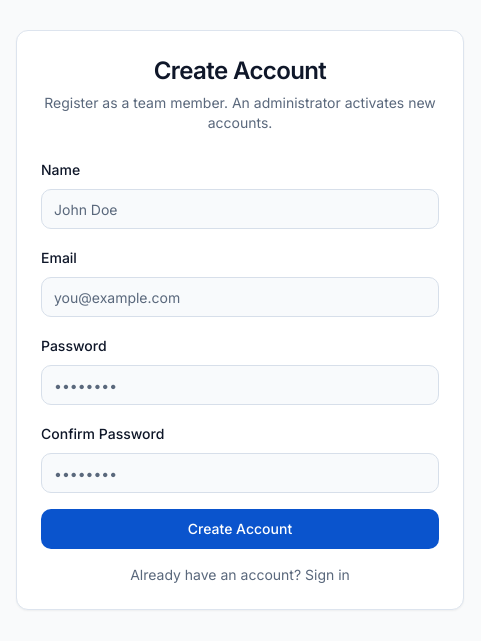
it: authentication pages › prevents registration when passwords differ
This screenshot has width=481, height=641.
Type "Asha Perera" into the field labelled "Name" at (240, 209), box [41, 189, 439, 229]
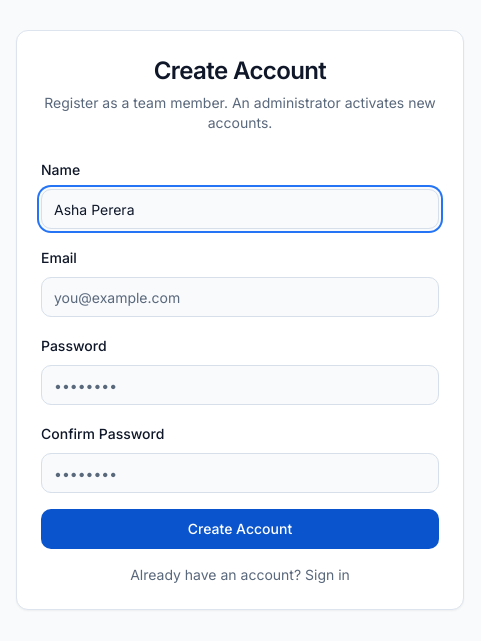
Type "asha@example.com" into the field labelled "Email" at (240, 297), box [41, 277, 439, 317]
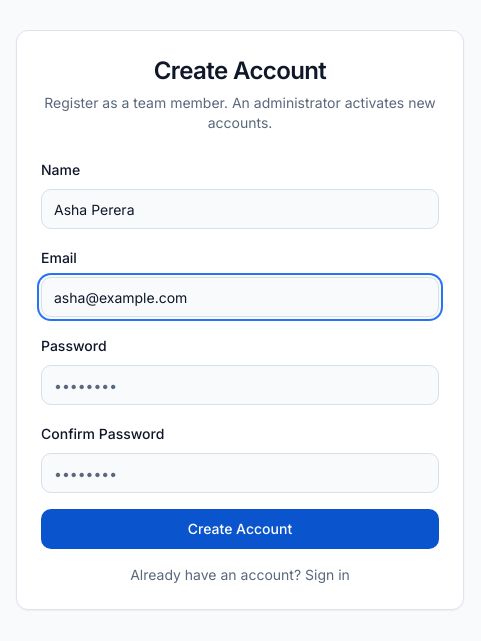
Type "password123" into the password field labelled "Password" at (240, 385), box [41, 365, 439, 405]
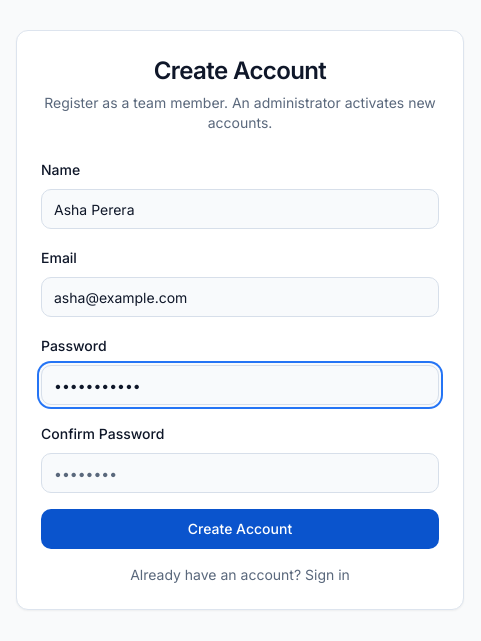
Type "different-password" into the password field labelled "Confirm Password" at (240, 473), box [41, 453, 439, 493]
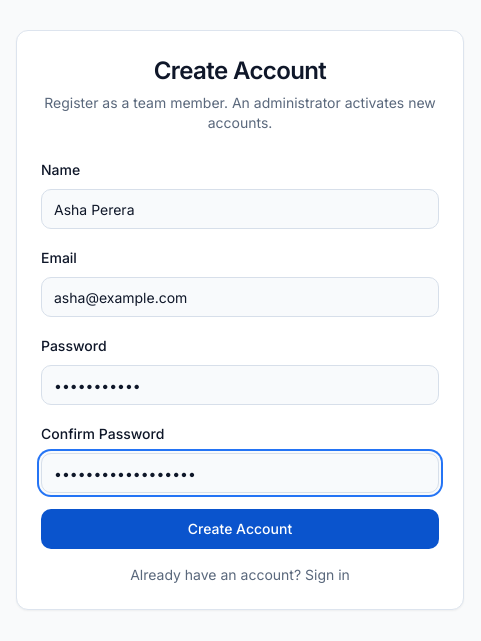
Click the button "Create Account" at (240, 529), box [41, 509, 439, 549]
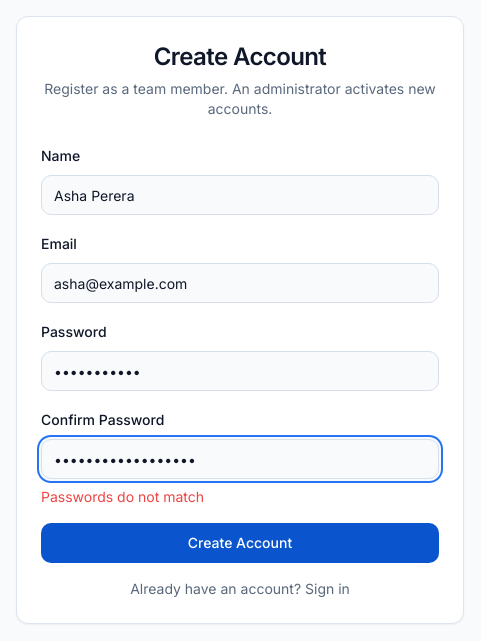
Expected: the text "Passwords do not match" is shown, [41, 488, 204, 505]
